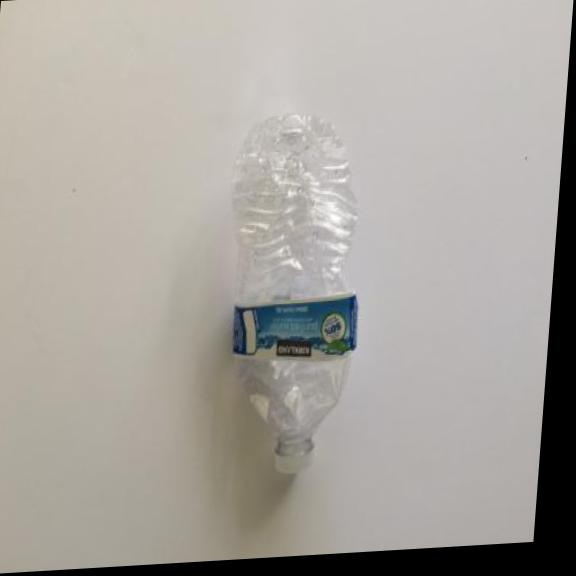Plastik: (202, 98, 375, 495)
